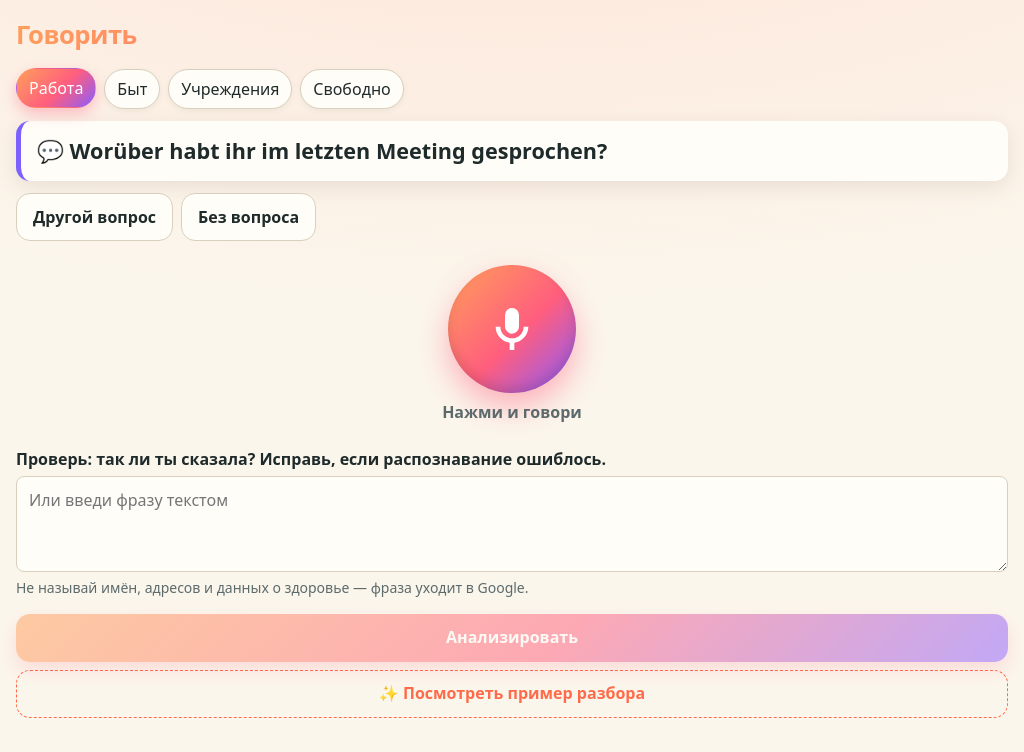
Test case: SpeakPage › shows a friendly message for {"name":"AiError","code":"QUOTA"}
The width and height of the screenshot is (1024, 752).
In the text box: (512, 524) top-left (16, 476), bottom-right (1008, 572), type "Hallo Welt"
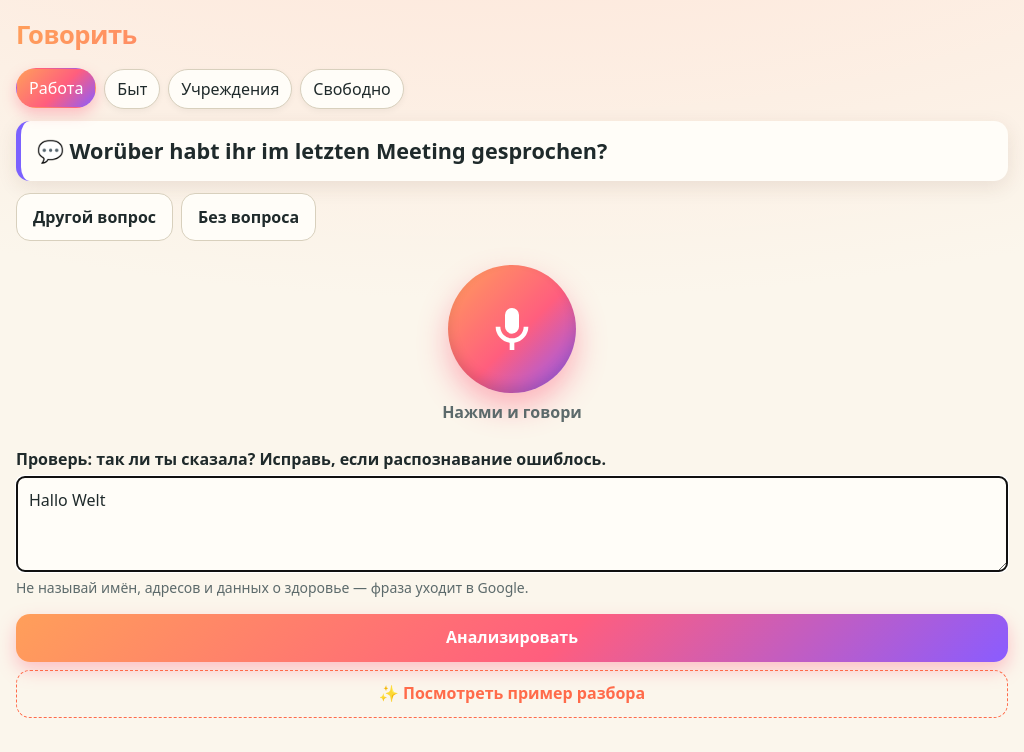
Click the button "Анализировать": (512, 638) top-left (16, 614), bottom-right (1008, 662)
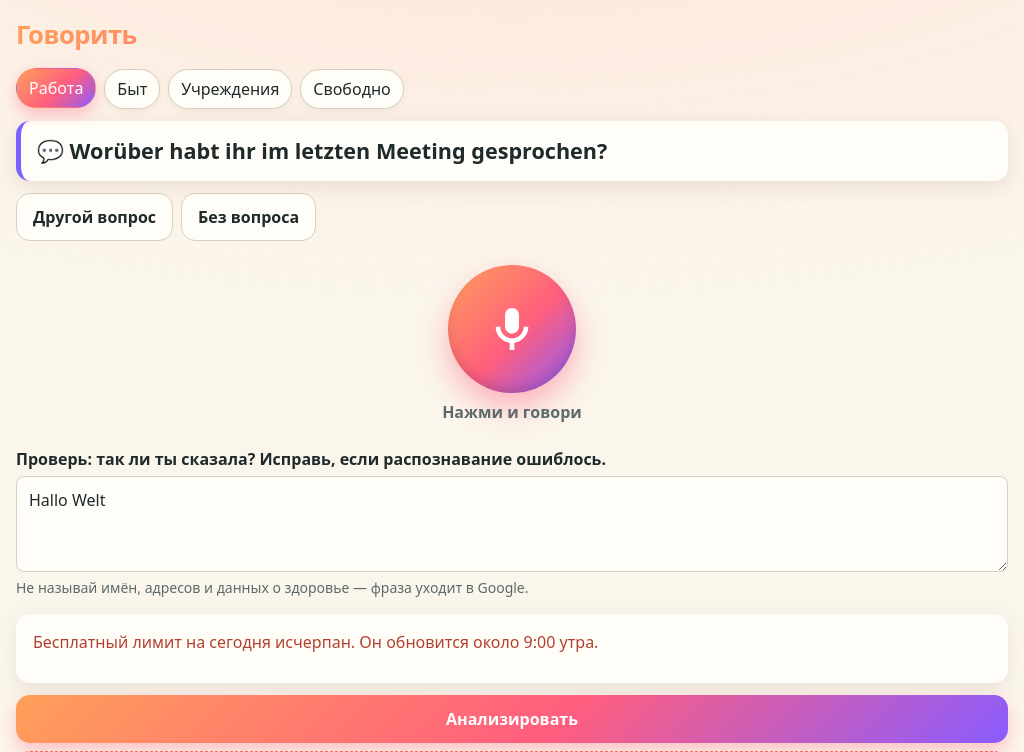
Expected: the message reads "Бесплатный лимит на сегодня исчерпан. Он обновится около 9:00 утра.", top-left (33, 631), bottom-right (598, 653)
